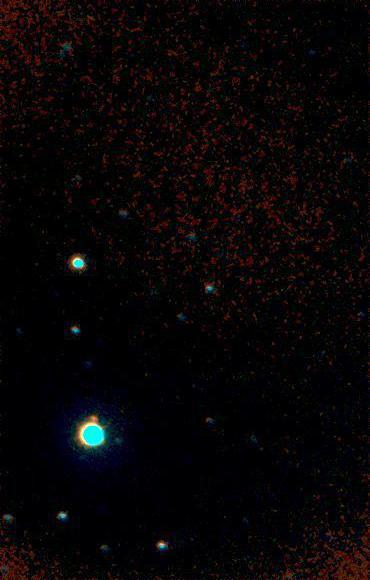star: (79, 403, 109, 433)
